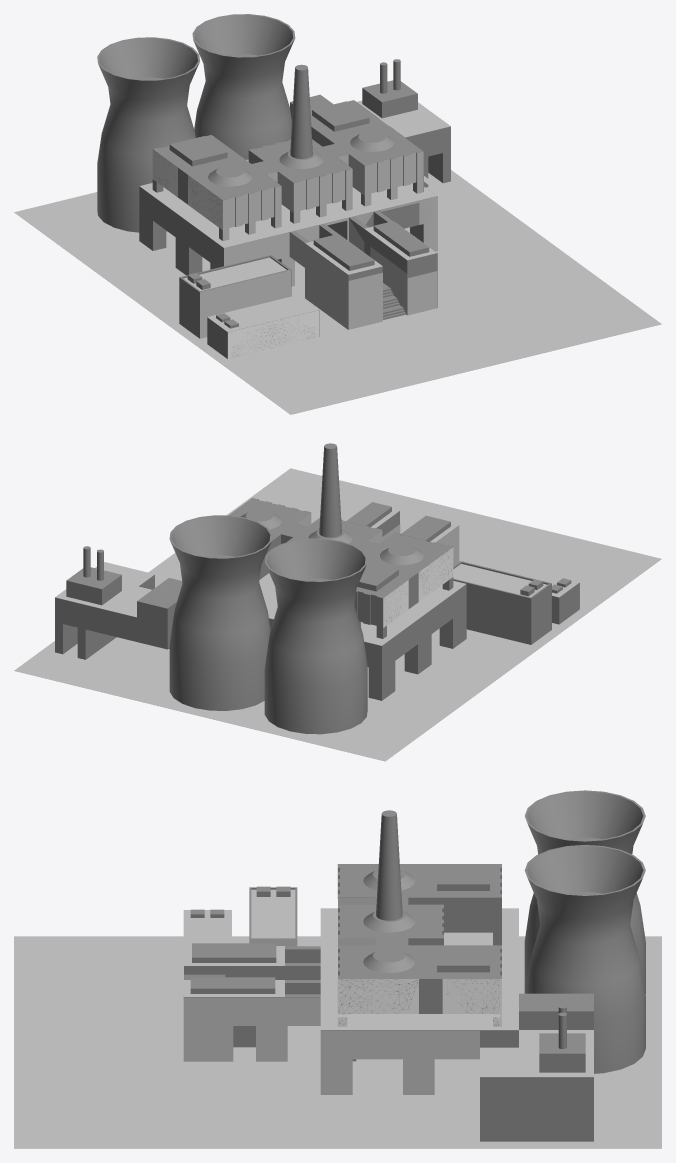
Rendered from Mobile_Level1.FBX.
The picture shows the model from 3 angles, top to bottom: view 1: azimuth 30°, elevation 25°; view 2: azimuth 150°, elevation 25°; view 3: azimuth 270°, elevation 25°; orthographic projection. The views are drawn at different scales.
Parts seen in each view (by area): view 1: NetworkLandscape, MobileLevel1; view 2: MobileLevel1, NetworkLandscape; view 3: NetworkLandscape, MobileLevel1.
Part boxes in pixels (x1,y1,x2,y2): NetworkLandscape: [14, 100, 661, 414]; MobileLevel1: [15, 14, 659, 414]; MobileLevel1: [15, 443, 659, 761]; NetworkLandscape: [14, 468, 661, 761]; NetworkLandscape: [14, 864, 661, 1148]; MobileLevel1: [14, 790, 661, 1148].
Size of the model in its own units: 12387 by 6066 by 15984.
